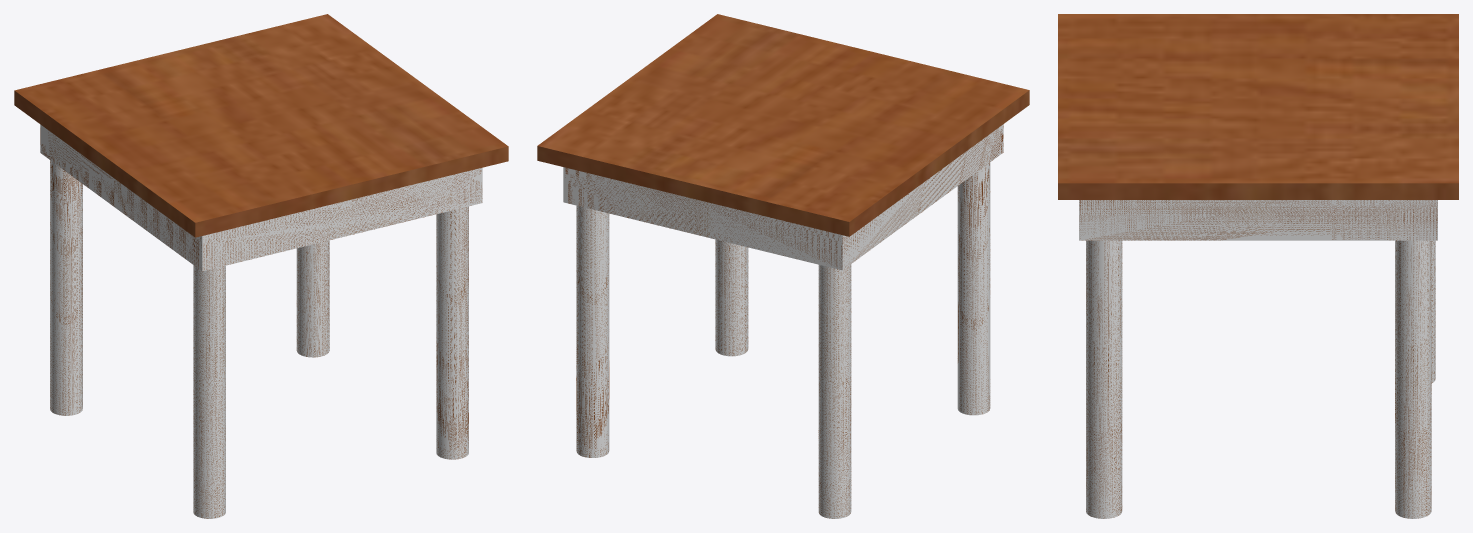
File: doll_table.dae
The picture shows the model from 3 angles, left to right: view 1: azimuth 30°, elevation 25°; view 2: azimuth 150°, elevation 25°; view 3: azimuth 270°, elevation 25°; orthographic projection. The views are drawn at different scales.
Parts seen in each view (by area): view 1: SketchUp (×6); view 2: SketchUp (×6); view 3: SketchUp (×5).
Boxes of the visible parts, left/top/right/bottom form: SketchUp (×6): left=14, top=14, right=508, bottom=518; SketchUp (×6): left=537, top=14, right=1029, bottom=518; SketchUp (×5): left=1058, top=14, right=1458, bottom=518.
Size of the model in its own units: 8.66 by 8.66 by 8.27.
2 materials, 1 textured.
